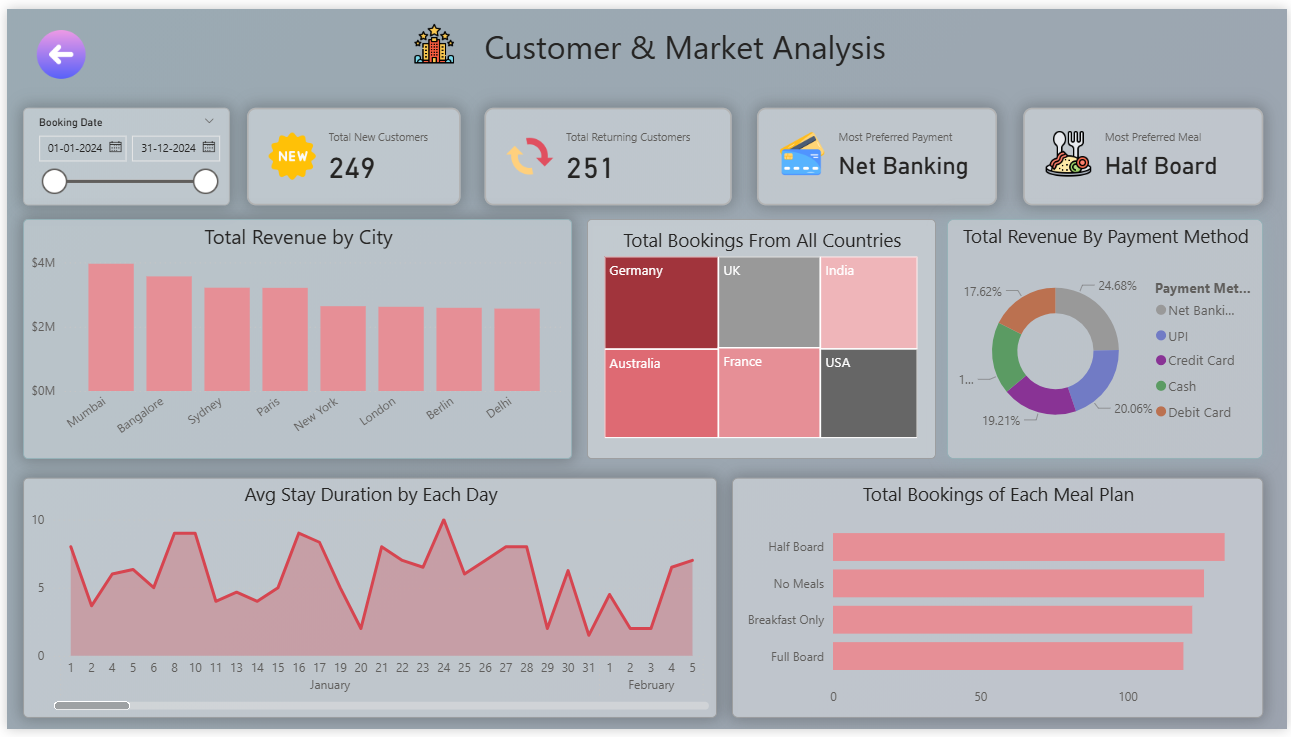

What the dashboard file says about the page in this screenshot:
{"tool":"powerbi","page":{"name":"Page 2","canvas":[1280,720],"ordinal":1},"visuals":[{"type":"shape","box":[33.8,27.5,40,32.5],"z":0},{"type":"textbox","box":[453.8,11.2,448.8,63.8],"z":1000},{"type":"image","box":[401.2,6.2,52.5,56.2],"z":2000},{"type":"cardVisual","fields":{"Data":["CountNonNull(Sheet1.Customer Type)"]},"box":[256,100.2,222.6,98],"z":3000},{"type":"cardVisual","fields":{"Data":["CountNonNull(Sheet1.Customer Type)"]},"box":[493,101.2,261.6,96.5],"z":4000},{"type":"cardVisual","fields":{"Data":["Sheet1.Most Preferred Payment"]},"box":[770.9,102.3,239.5,96.5],"z":5000},{"type":"cardVisual","fields":{"Data":["Sheet1.Most Preferred Meal"]},"box":[1025.6,101.2,239.5,97.7],"z":6000},{"type":"slicer","fields":{"Values":["Sheet1.Booking Date"]},"box":[16.7,99.1,219.3,96.8],"z":7000},{"type":"lineChart","title":"Avg Stay Duration by Each Day","fields":{"Y":["Avg(Sheet1.Stay Duration (Nights))"],"Category":["Sheet1.Booking Date.Variation.Date Hierarchy.Month","Sheet1.Booking Date.Variation.Date Hierarchy.Day"]},"box":[16.2,468.8,693.8,240],"z":8000},{"type":"columnChart","title":"Total Revenue by City","fields":{"Category":["Sheet1.City"],"Y":["Sum(Sheet1.Total Revenue)"]},"box":[16.2,210,548.8,240],"z":9000},{"type":"donutChart","title":"Total Revenue By Payment Method","fields":{"Category":["Sheet1.Payment Method"],"Y":["Sum(Sheet1.Total Revenue)"]},"box":[939.5,210.5,325.6,239.5],"z":10000},{"type":"treemap","title":"Total Bookings From All Countries","fields":{"Group":["Sheet1.Country"],"Values":["Count(Sheet1.Booking ID)"]},"box":[580,210,348.8,240],"z":11000},{"type":"barChart","title":"Total Bookings of Each Meal Plan","fields":{"Category":["Sheet1.Meal Plan"],"Y":["CountNonNull(Sheet1.Booking ID)"]},"box":[724.4,468.6,540.7,240.7],"z":12000},{"type":"image","box":[25,16.2,58.8,58.8],"z":13000}]}

Visuals, with their boxes in screenshot pixels (x1, y1, x2, y2), scaled from the page's 1280x720 canvas onto the 1291x737 screenshot:
shape: BBox(34, 28, 74, 61)
textbox: BBox(458, 11, 910, 77)
image: BBox(405, 6, 458, 64)
cardVisual - CountNonNull(Sheet1.Customer Type): BBox(258, 103, 483, 203)
cardVisual - CountNonNull(Sheet1.Customer Type): BBox(497, 104, 761, 202)
cardVisual - Sheet1.Most Preferred Payment: BBox(778, 105, 1019, 203)
cardVisual - Sheet1.Most Preferred Meal: BBox(1034, 104, 1276, 204)
slicer - Sheet1.Booking Date: BBox(17, 101, 238, 201)
"Avg Stay Duration by Each Day" lineChart: BBox(16, 480, 716, 726)
"Total Revenue by City" columnChart: BBox(16, 215, 570, 461)
"Total Revenue By Payment Method" donutChart: BBox(948, 215, 1276, 461)
"Total Bookings From All Countries" treemap: BBox(585, 215, 937, 461)
"Total Bookings of Each Meal Plan" barChart: BBox(731, 480, 1276, 726)
image: BBox(25, 17, 85, 77)
